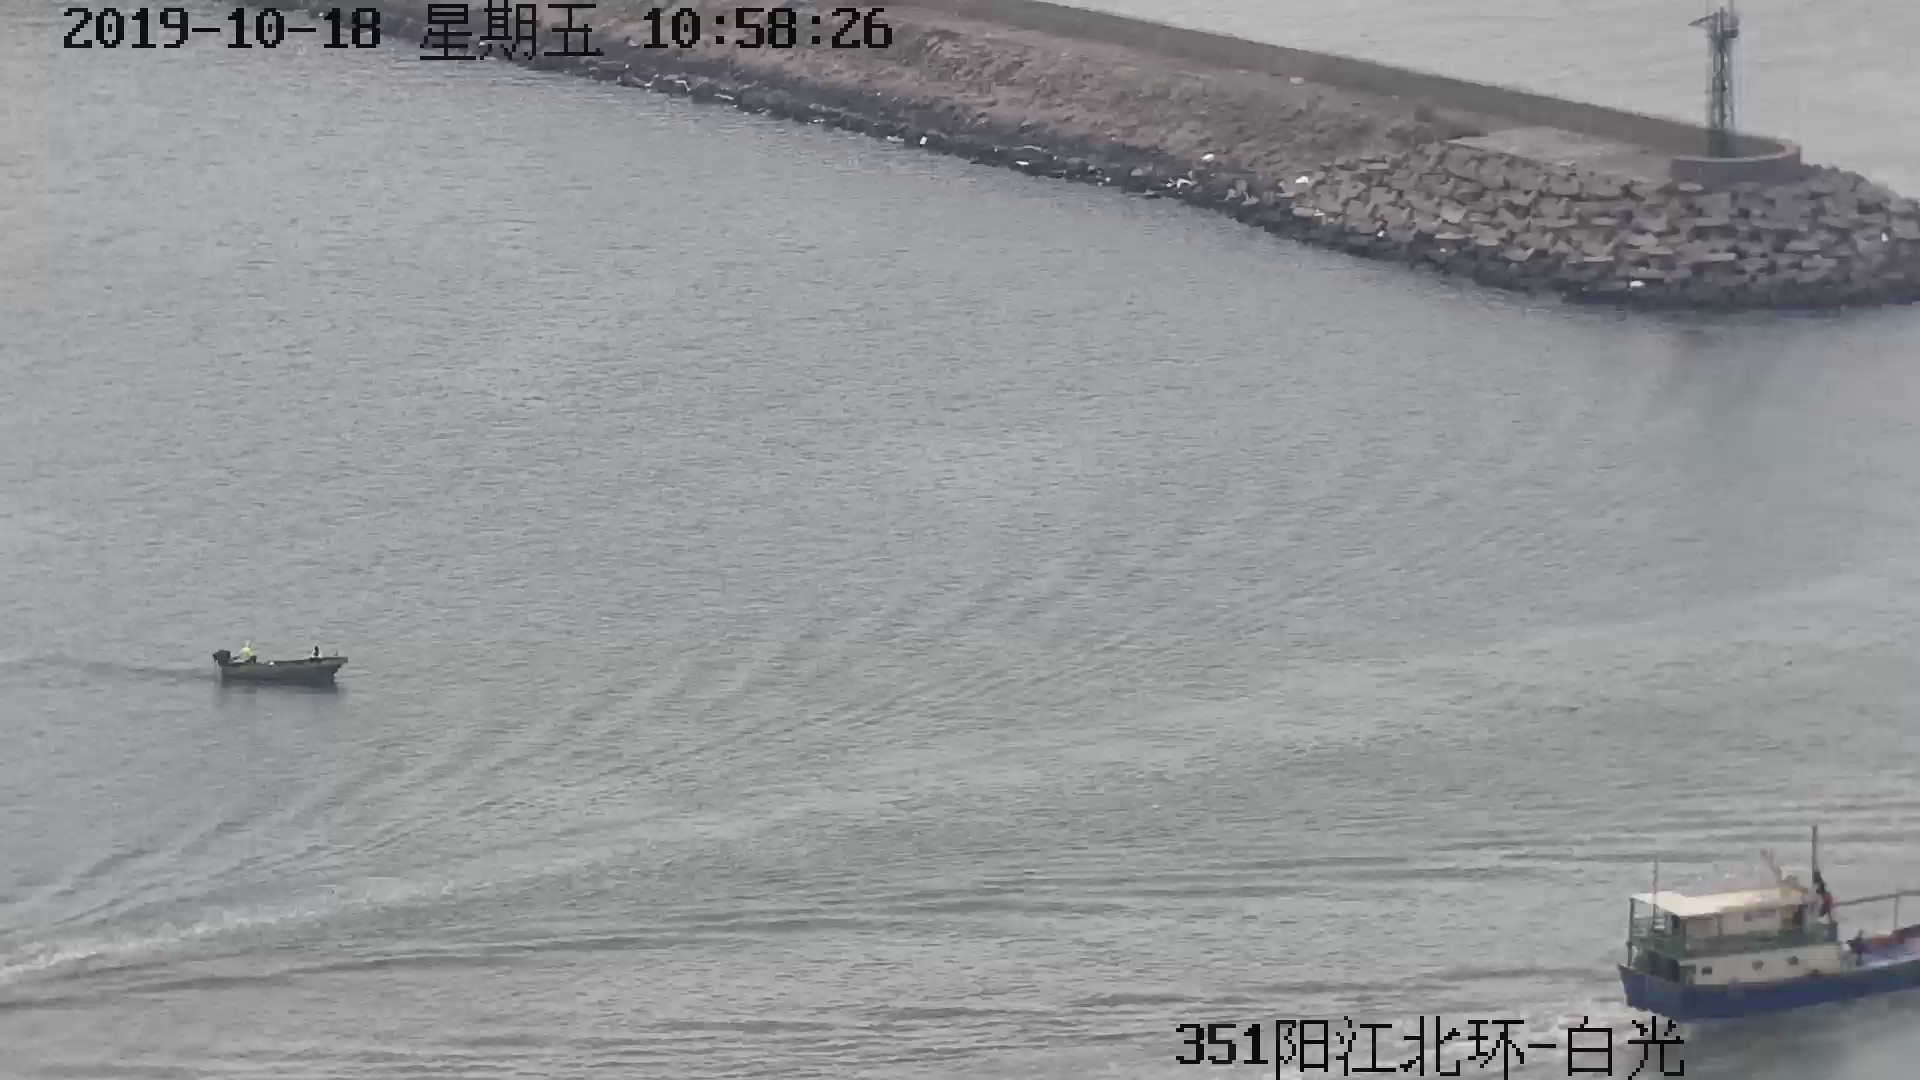ship: (1615, 832, 1920, 1025), (214, 644, 348, 684)
